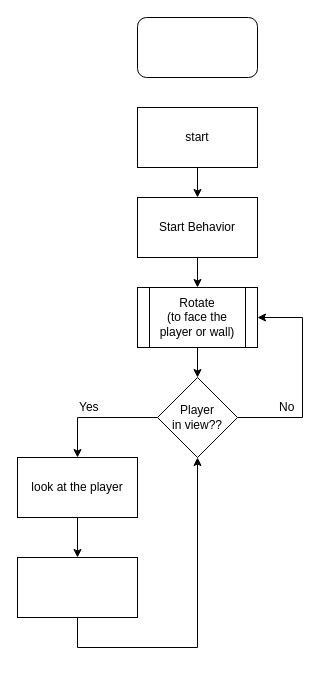
Image size: 328x673. Some labels were removed from this diagram. The centre of each missing label's shape, as x and y in pixels:
Guard AI: pixel 197 47
Shoot player: pixel 77 587
